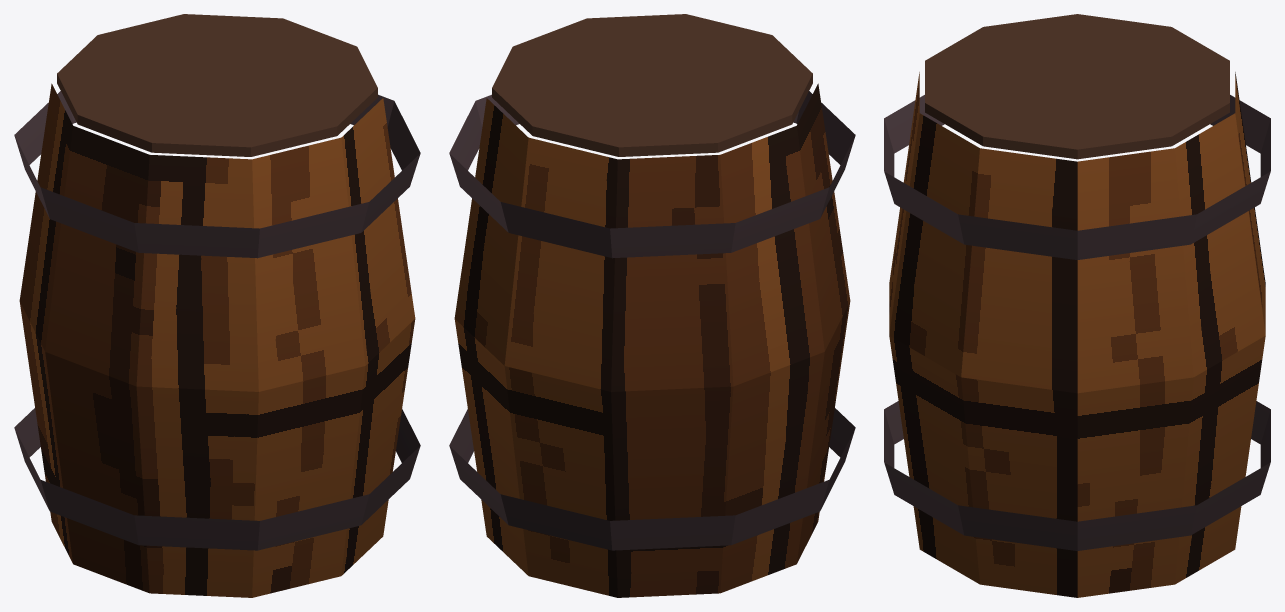
File: barrel.glb
3 renders of one model, left to right at view 1: azimuth 30°, elevation 25°; view 2: azimuth 150°, elevation 25°; view 3: azimuth 270°, elevation 25°, orthographic.
Visible parts, largest first — view 1: barrel; view 2: barrel; view 3: barrel.
Boxes of the visible parts, x1=… form: barrel: x1=14, y1=14, x2=420, y2=597; barrel: x1=449, y1=14, x2=855, y2=597; barrel: x1=884, y1=14, x2=1270, y2=597.
Bounding box in the file's own units: 0.76 × 0.92 × 0.7228.
2 materials, 1 textured.
